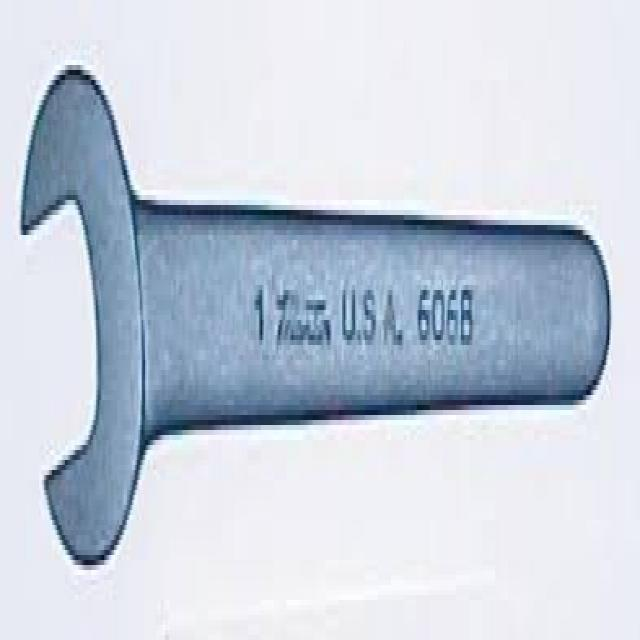wrench: (14, 58, 614, 578)
